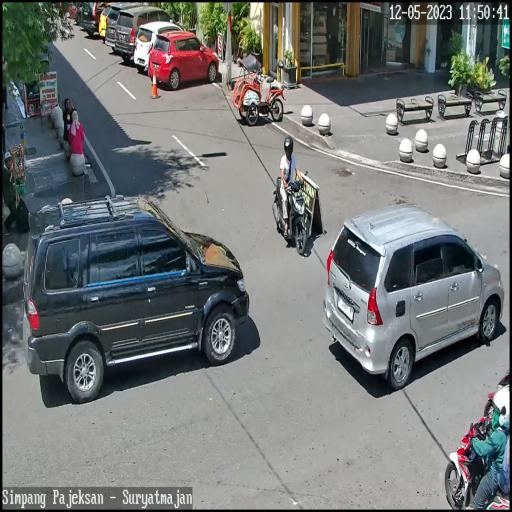mobil: (22, 200, 250, 412), (323, 200, 506, 396), (149, 27, 221, 94), (115, 8, 185, 64), (135, 18, 189, 82)
motor: (273, 158, 312, 262)
